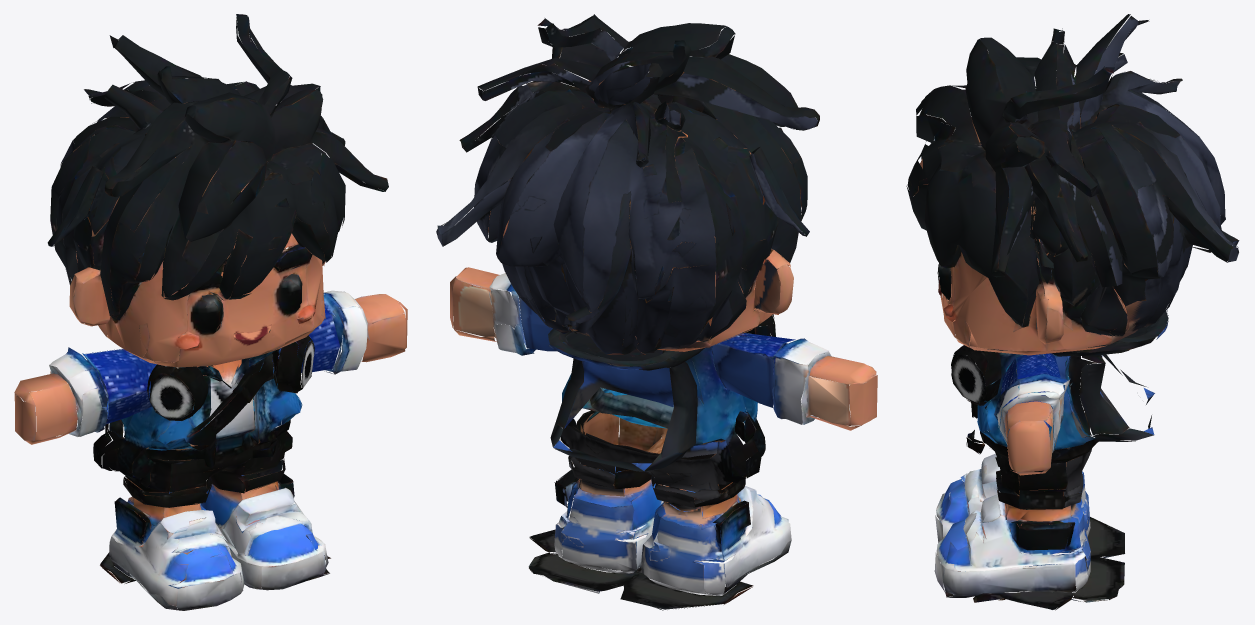
The model's file is kai_final.glb.
3 views of the same model, side by side, from view 1: azimuth 30°, elevation 25°; view 2: azimuth 150°, elevation 25°; view 3: azimuth 270°, elevation 25° (orthographic). The views are drawn at different scales.
Parts seen in each view (by area): view 1: Body; view 2: Body; view 3: Body.
Part boxes in pixels (box(x1,y1,x2,y2)): Body: box(14, 14, 407, 610); Body: box(436, 14, 877, 610); Body: box(906, 14, 1239, 610).
Bounding box in the file's own units: 0.5612 × 0.72 × 0.4077.
Materials: 1 (1 with a texture image).
